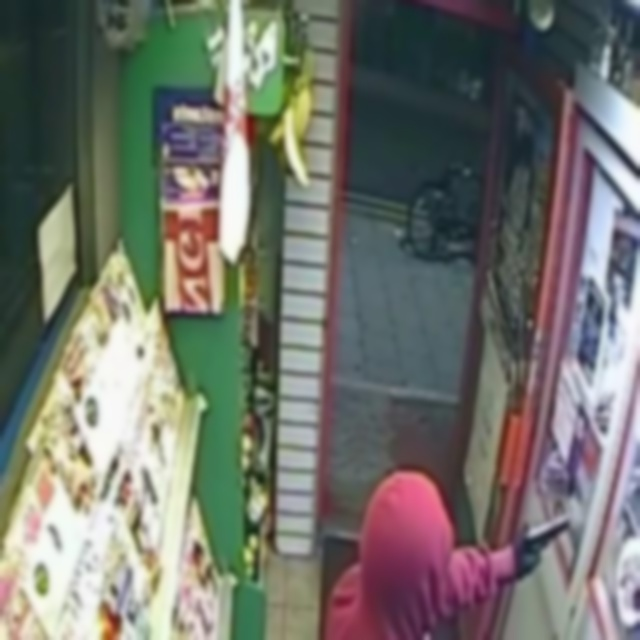gun: (503, 504, 578, 578)
